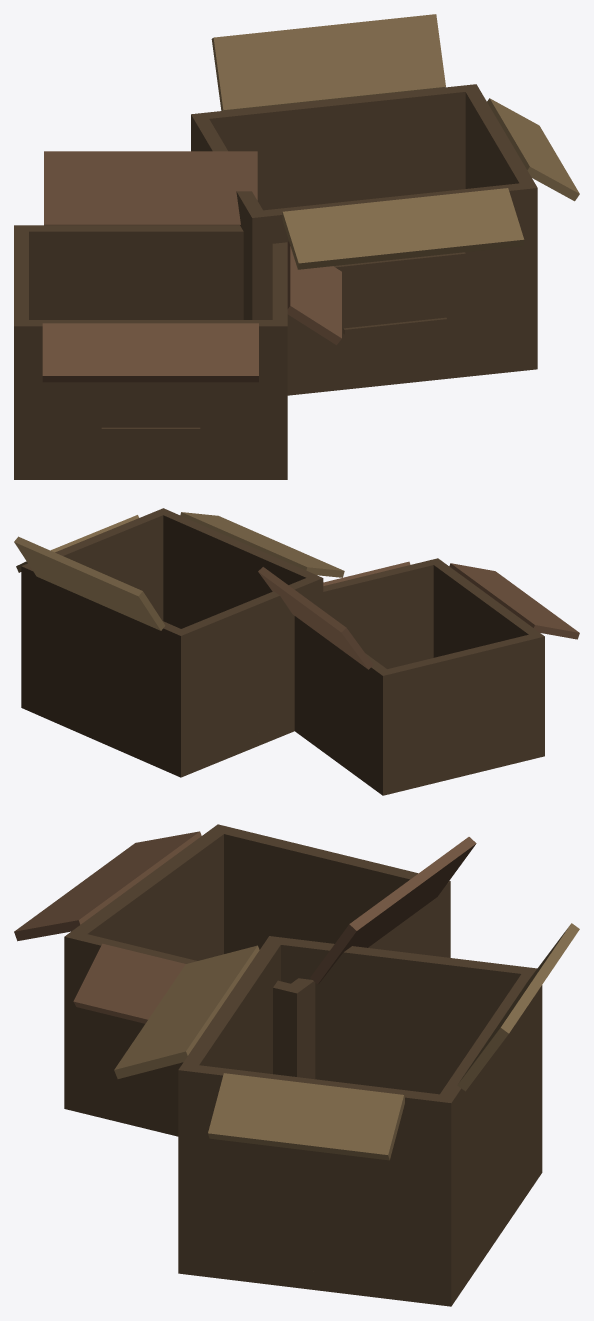
File: CMU3DDecorFloorCardboardEast.glb
3 renders of one model, top to bottom at view 1: azimuth 30°, elevation 25°; view 2: azimuth 150°, elevation 25°; view 3: azimuth 270°, elevation 25°, orthographic. The views are drawn at different scales.
Visible parts, largest first — view 1: carton 2 front wall, carton 2 back wall, carton 1 front wall, carton 1 back wall, carton 2 raised back flap, carton 1 raised back flap, carton 2 folded front flap, carton 1 folded front flap, carton 2 right wall, carton 1 recessed bottom, carton 2 left wall, carton 1 left wall (+6 smaller); view 2: carton 1 left wall, carton 2 back wall, carton 2 left wall, carton 1 back wall, carton 2 front wall, carton 1 right wall, carton 2 right wall, carton 1 front wall, carton 2 raised back flap, carton 1 folded front flap, carton 1 raised back flap, carton 2 folded front flap (+3 smaller); view 3: carton 2 right wall, carton 2 left wall, carton 2 back wall, carton 1 left wall, carton 1 right wall, carton 2 side flap, carton 1 front wall, carton 2 folded front flap, carton 2 front wall, carton 1 folded front flap, carton 1 side flap, carton 2 recessed bottom (+3 smaller).
Boxes of the visible parts, box(x1,y1,x2,y2) form: carton 2 front wall: box(263, 183, 523, 395); carton 2 back wall: box(206, 85, 465, 210); carton 1 front wall: box(29, 320, 272, 463); carton 1 back wall: box(29, 225, 243, 319); carton 2 raised back flap: box(211, 14, 445, 110); carton 1 raised back flap: box(44, 151, 257, 225); carton 2 folded front flap: box(282, 188, 524, 269); carton 1 folded front flap: box(42, 323, 258, 382); carton 2 right wall: box(462, 84, 537, 370); carton 1 recessed bottom: box(29, 463, 272, 479); carton 2 left wall: box(191, 112, 266, 319); carton 1 left wall: box(14, 225, 28, 479); carton 1 left wall: box(377, 632, 544, 795); carton 2 back wall: box(29, 569, 180, 773); carton 2 left wall: box(172, 574, 323, 777); carton 1 back wall: box(294, 616, 386, 790); carton 2 front wall: box(163, 511, 314, 628); carton 1 right wall: box(323, 558, 443, 668); carton 2 right wall: box(21, 508, 170, 710); carton 1 front wall: box(433, 562, 538, 657); carton 2 raised back flap: box(14, 536, 165, 630); carton 1 folded front flap: box(449, 563, 579, 639); carton 1 raised back flap: box(258, 567, 373, 669); carton 2 folded front flap: box(180, 512, 344, 577); carton 2 right wall: box(178, 1063, 455, 1306); carton 2 left wall: box(265, 936, 542, 1178); carton 2 back wall: box(440, 974, 537, 1299); carton 1 left wall: box(210, 824, 450, 957); carton 1 right wall: box(64, 930, 305, 1136); carton 2 side flap: box(208, 1073, 404, 1160); carton 1 front wall: box(73, 830, 223, 960); carton 2 folded front flap: box(114, 945, 259, 1078); carton 2 front wall: box(183, 943, 280, 1073); carton 1 folded front flap: box(14, 831, 201, 941); carton 1 side flap: box(73, 943, 185, 1023); carton 2 recessed bottom: box(178, 1255, 451, 1306).
Bounding box in the file's own units: 0.9145 × 0.3438 × 0.6555.
